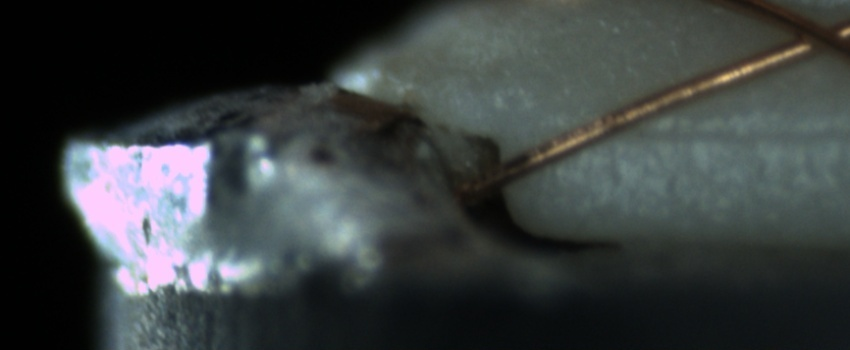CL: (761, 2, 849, 65)
DL: (585, 99, 839, 164)
